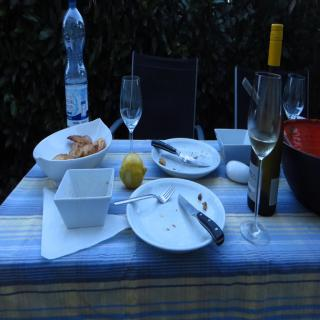Lemon: (119, 151, 147, 190)
